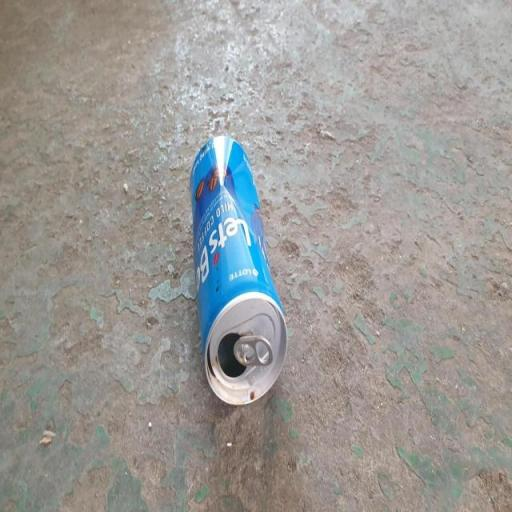metal: (185, 121, 293, 410)
